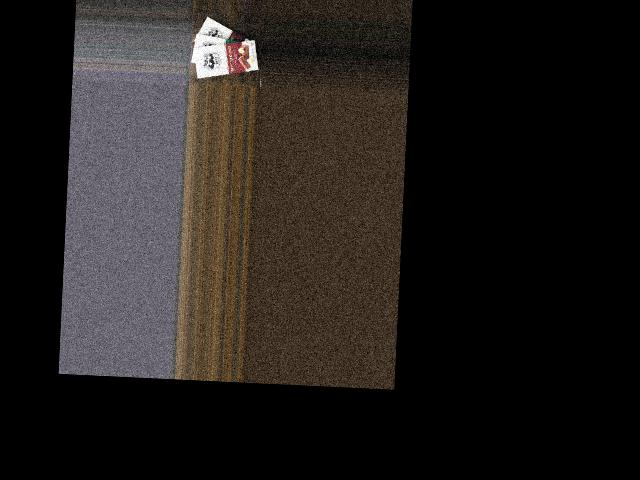chocolate: (191, 15, 260, 60)
